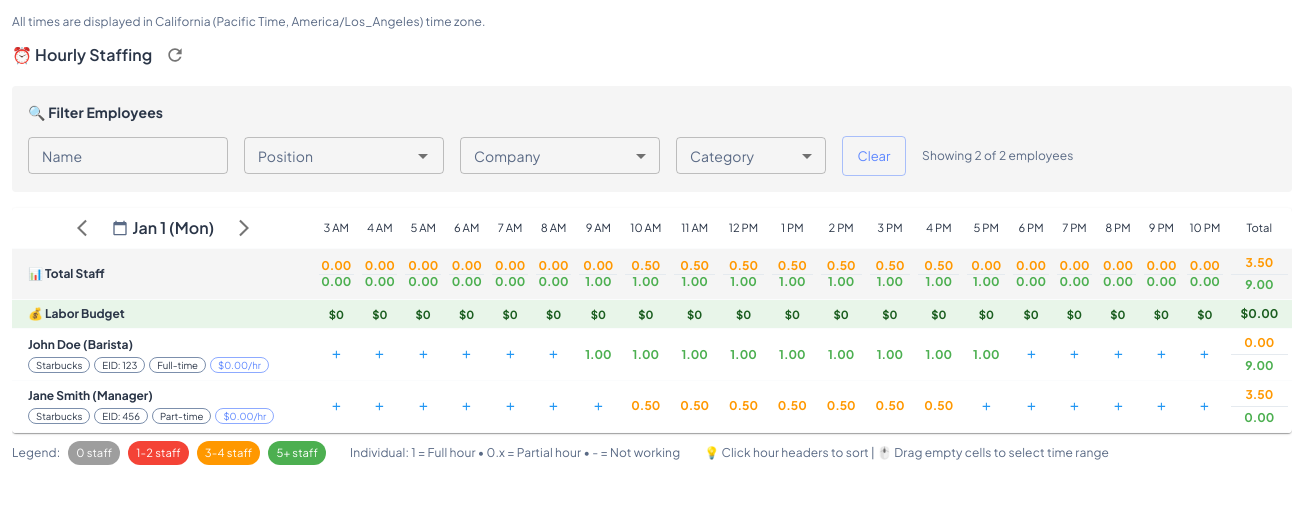
it: HourlyStaffingTable › Sorting › sorts employees by hour when clicking hour headers
Click the text "9 AM": coordinates (598, 227) left=586, top=220, right=611, bottom=234
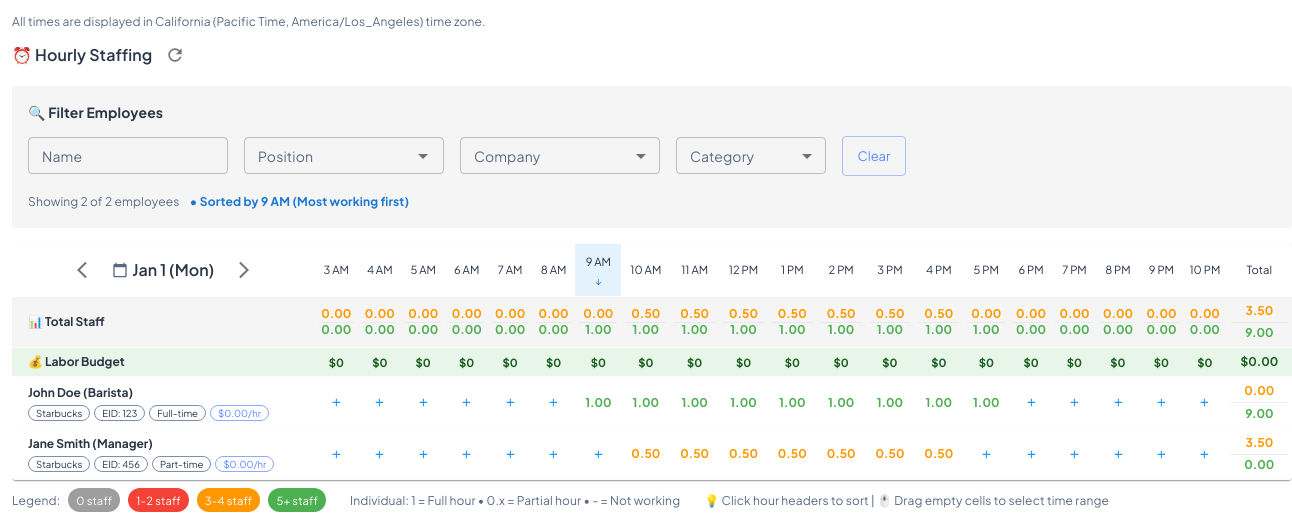
Expected: the text "• Sorted by 9 AM (Most working first)" is shown, left=190, top=194, right=409, bottom=209
